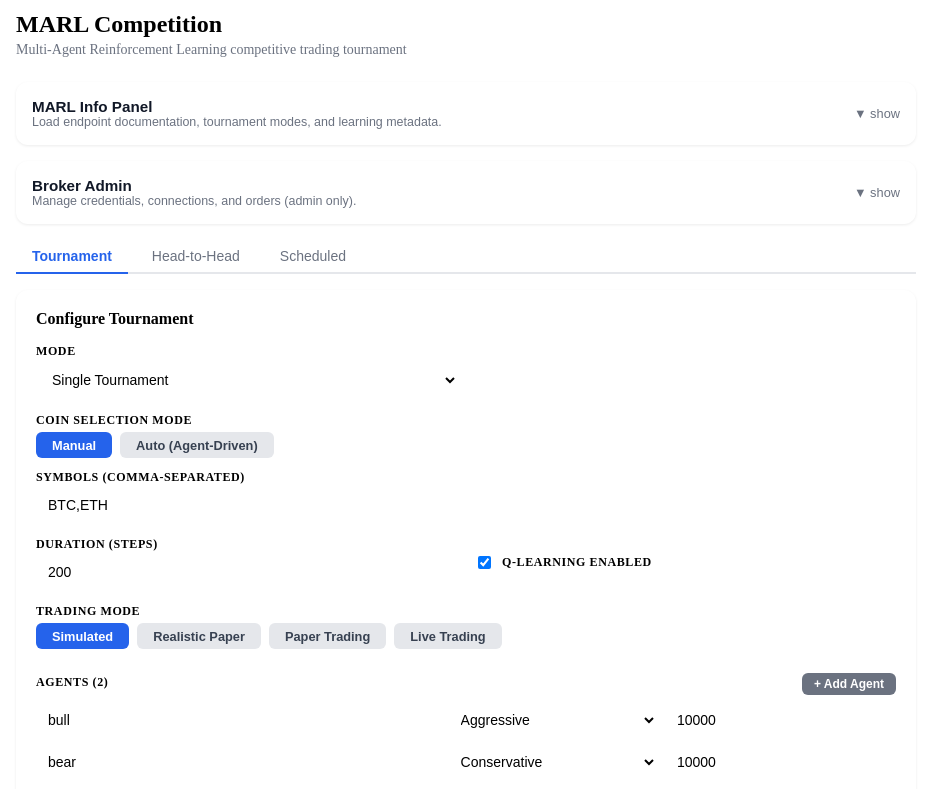
Scenario: MarlCompetitionViewer — results › loads the MARL info panel on demand
What coordinates should you click on to do the following:
click the button "MARL Info Panel"
I would click on:
 (92, 106)
Its box is [32,98,900,129].
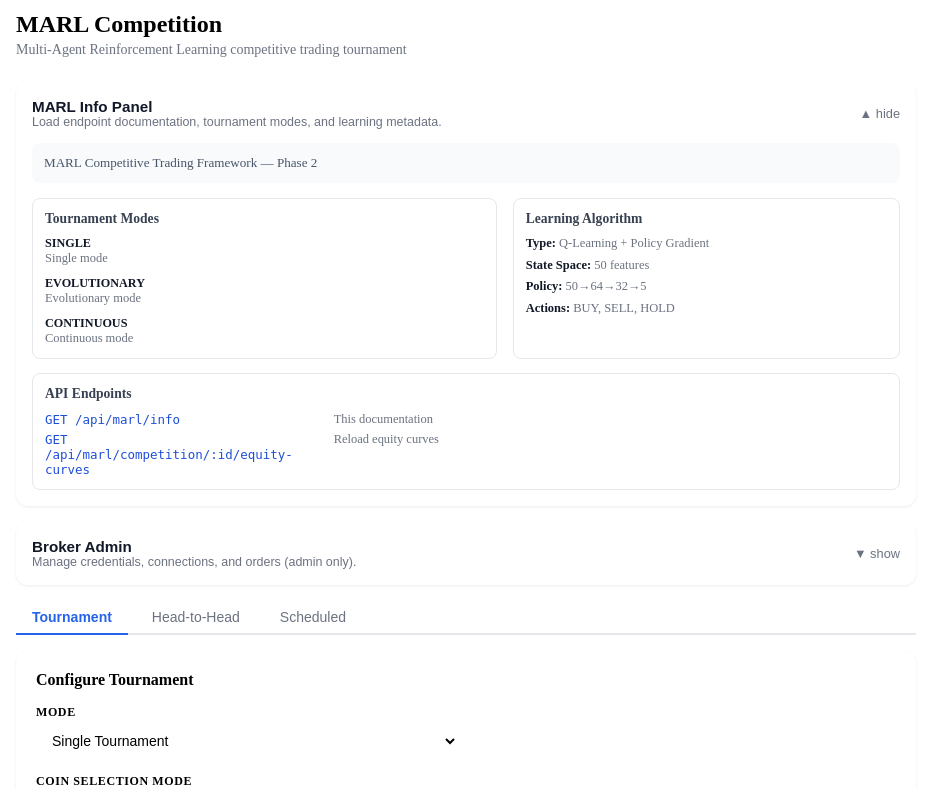
Now the heading "Tournament Modes" is shown, box [45,211,159,226]
Now the text "Q-Learning + Policy Gradient" is shown, box [559,236,709,250]
